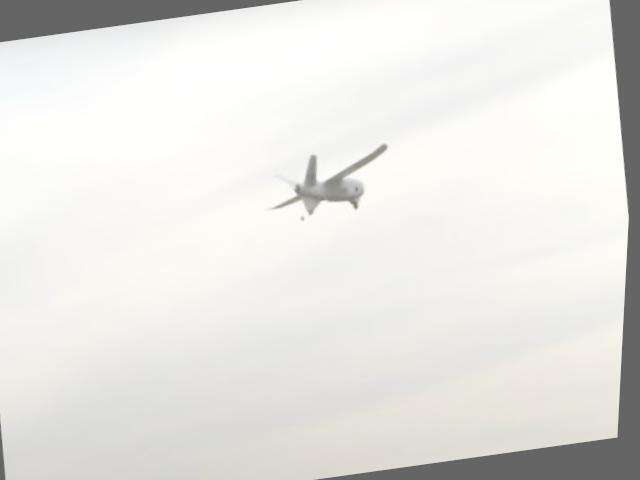uav: (258, 136, 399, 223)
